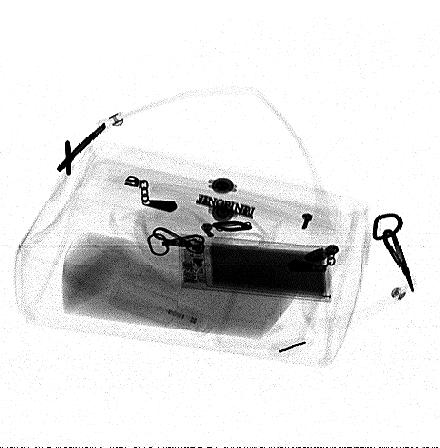Powerbank: (178, 232, 334, 303)
